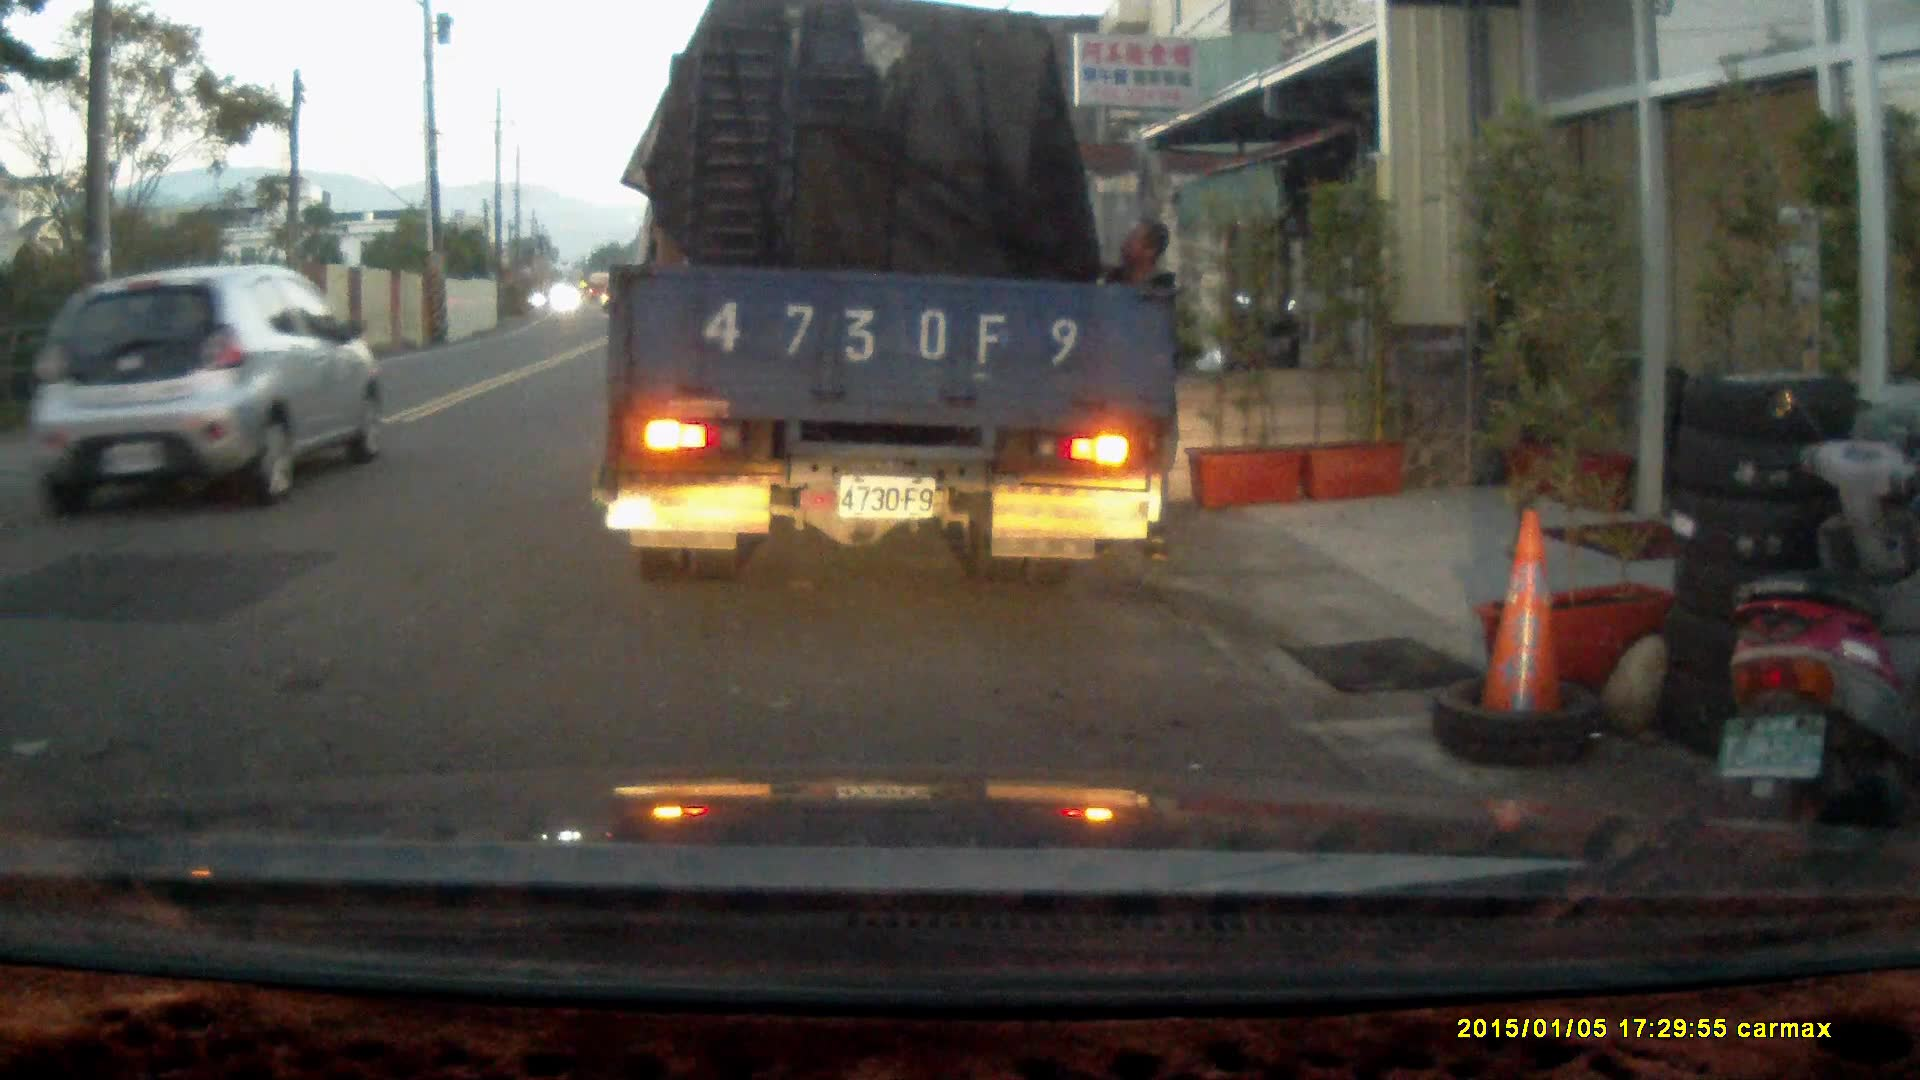pedestrian: (1085, 216, 1186, 567)
vehicle: (602, 23, 1185, 572), (21, 264, 378, 510)
